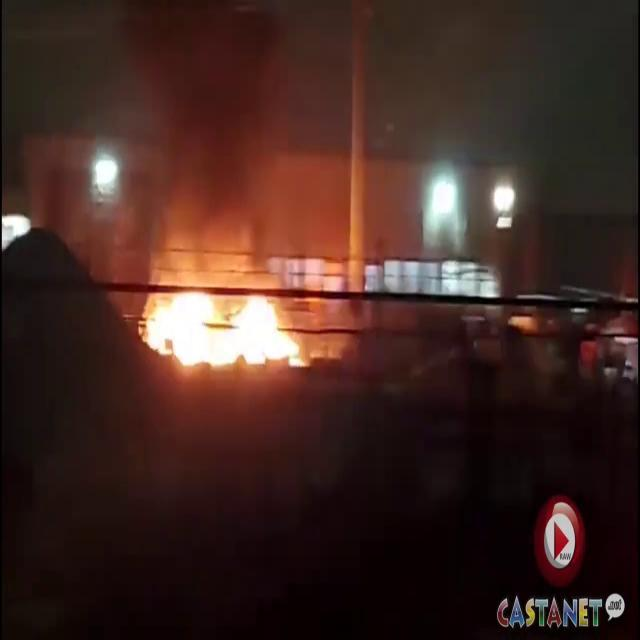Fire: (132, 268, 314, 378)
Smoke: (125, 0, 305, 277)
